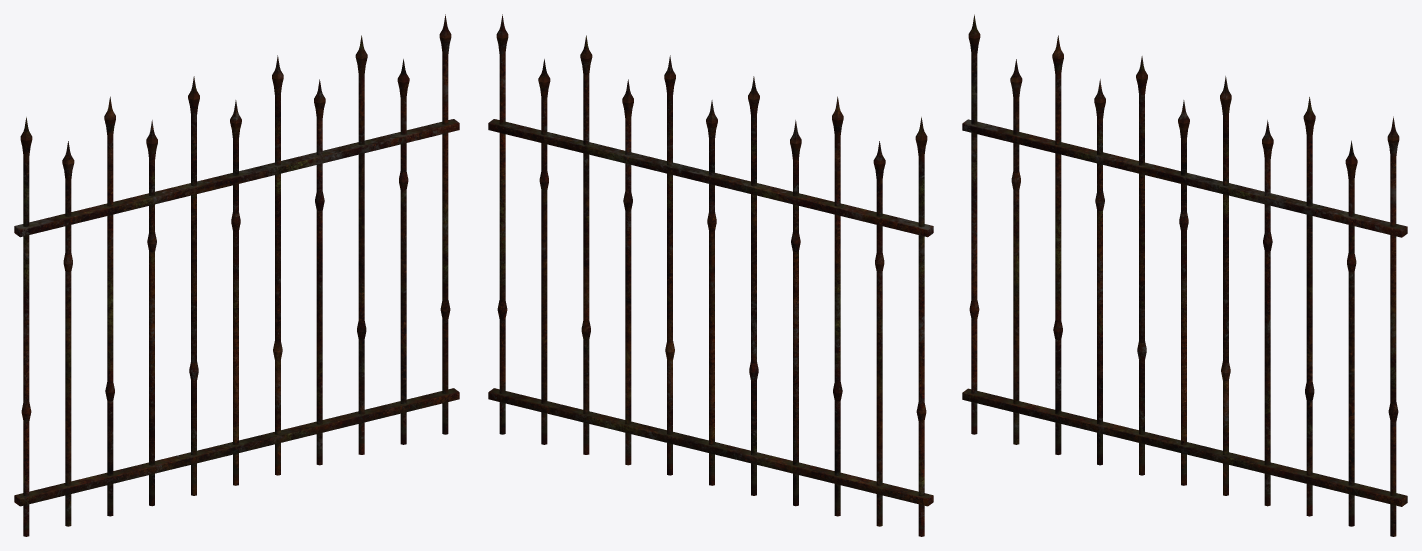
Rendered from SM_fence_22.fbx.
3 views of the same model, side by side, from view 1: azimuth 30°, elevation 25°; view 2: azimuth 150°, elevation 25°; view 3: azimuth 330°, elevation 25° (orthographic).
Visible parts, largest first — view 1: SM_fence_22; view 2: SM_fence_22; view 3: SM_fence_22.
Boxes of the visible parts, <box> form: SM_fence_22: <box>14,14,459,536</box>; SM_fence_22: <box>488,14,933,536</box>; SM_fence_22: <box>962,14,1407,536</box>.
Bounding box in the file's own units: 341 × 310 × 7.94.
